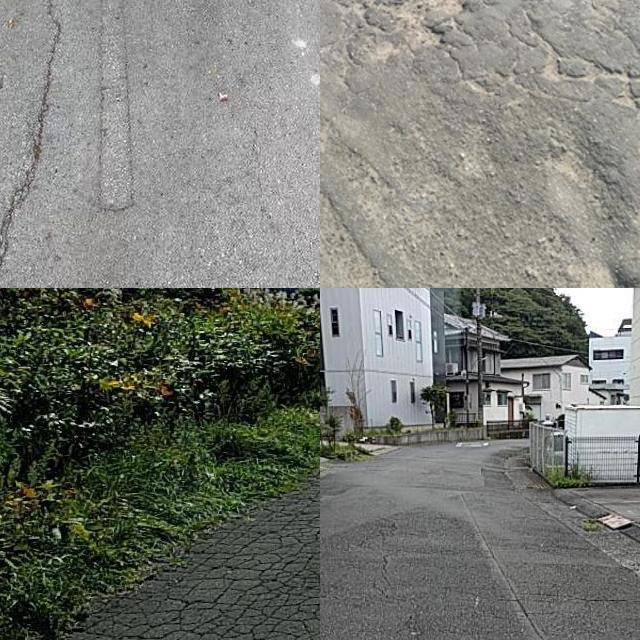Lubang: (382, 0, 462, 46)
Memanjang: (0, 0, 67, 288), (452, 496, 560, 640)
Retak Buaya: (35, 456, 320, 640)
